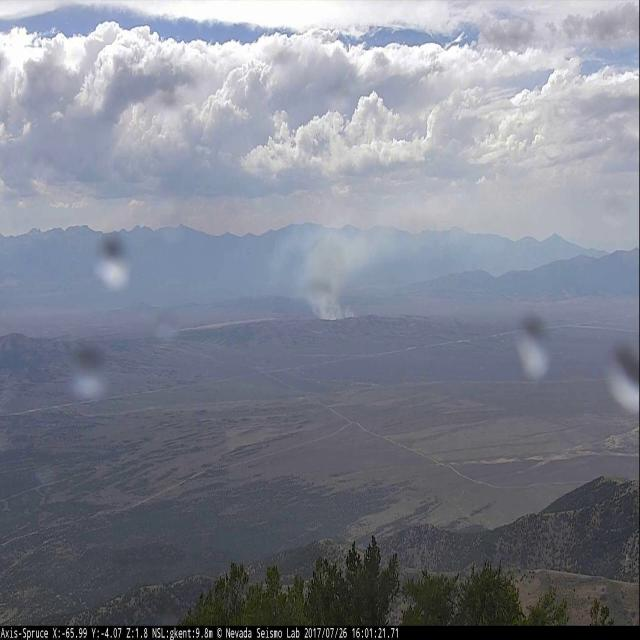smoke: (286, 187, 394, 323)
